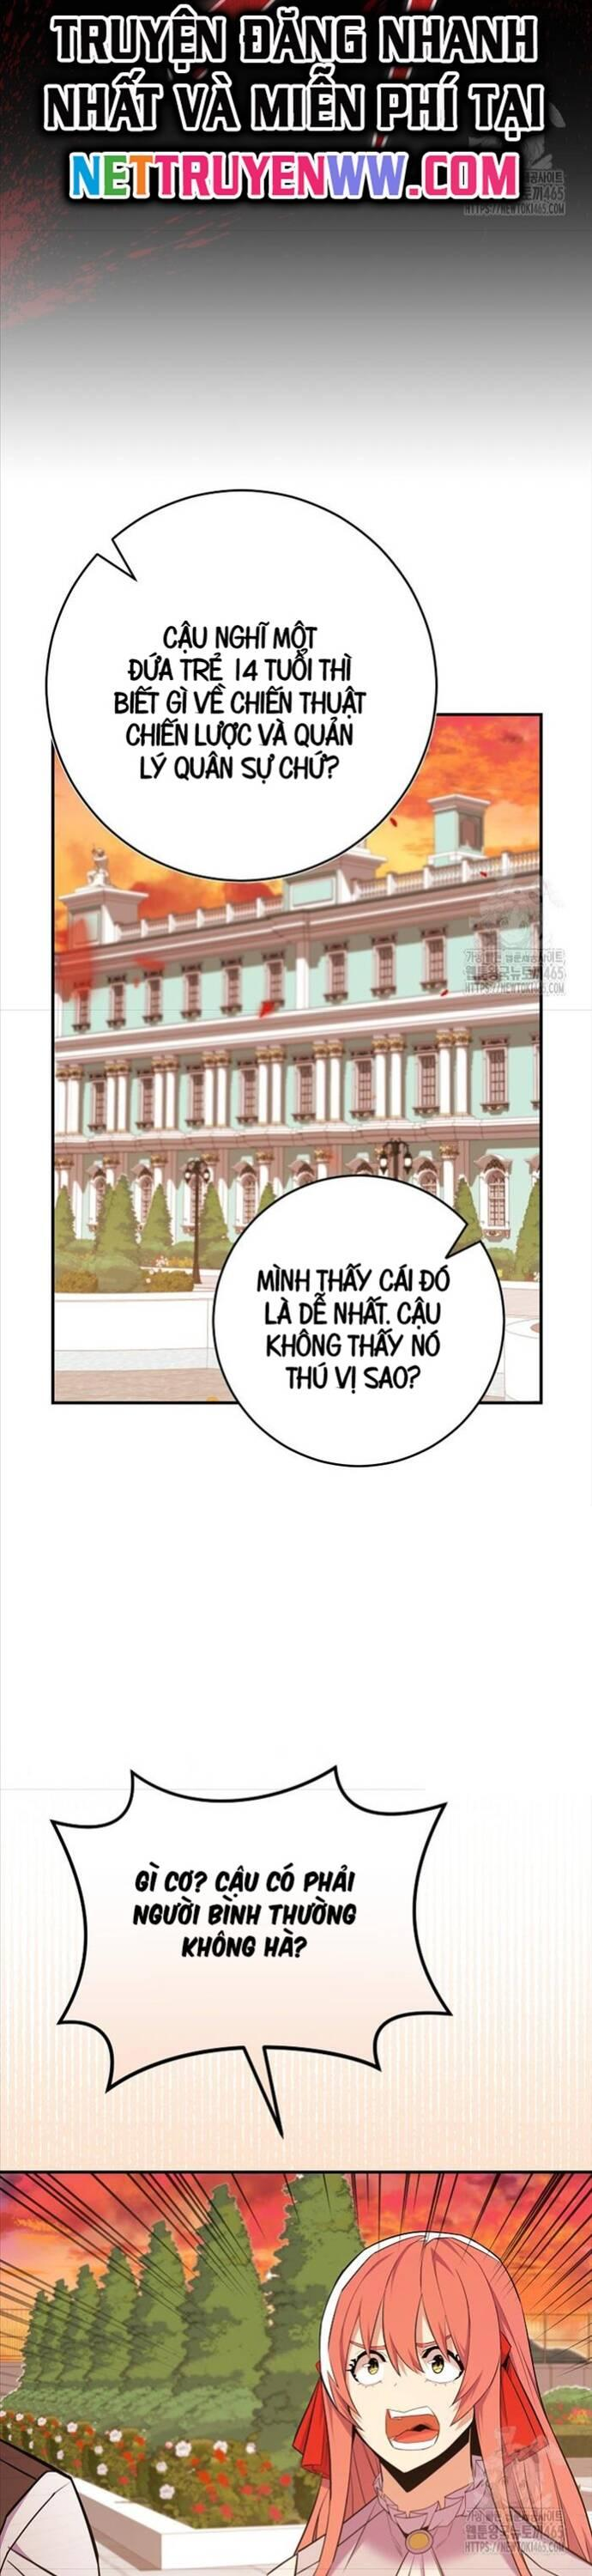quangcao: (39, 0, 562, 215)
